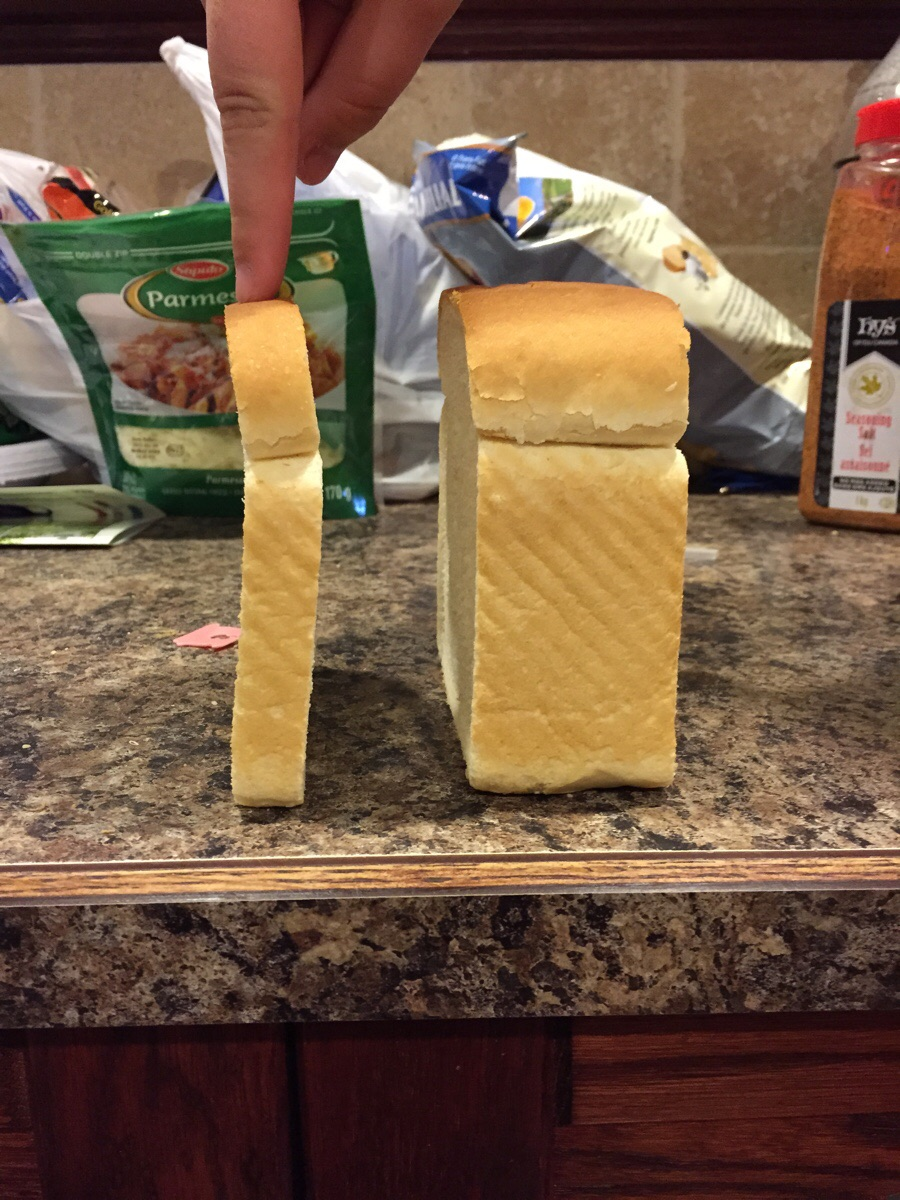slice of bread: (438, 290, 681, 786), (234, 295, 313, 820)
